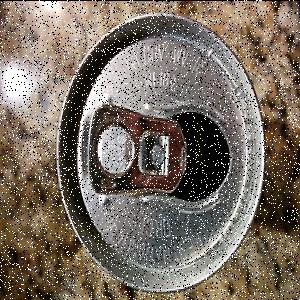Can: (55, 10, 267, 296)
